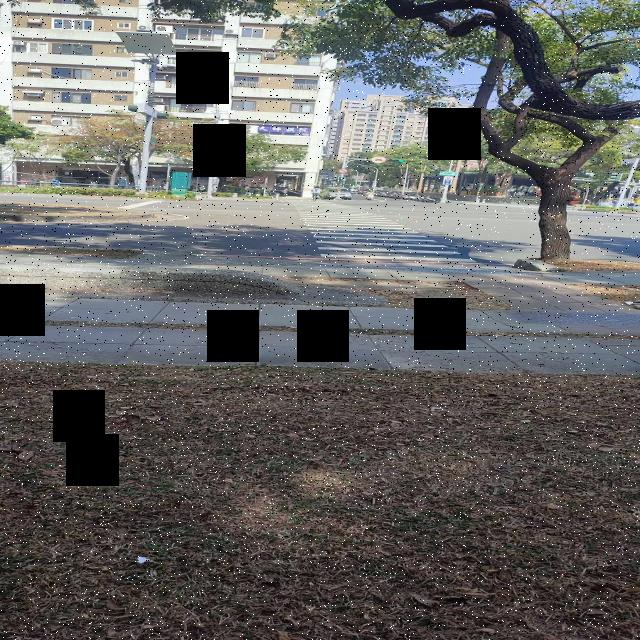zebra_crossing: (146, 96, 454, 336)
